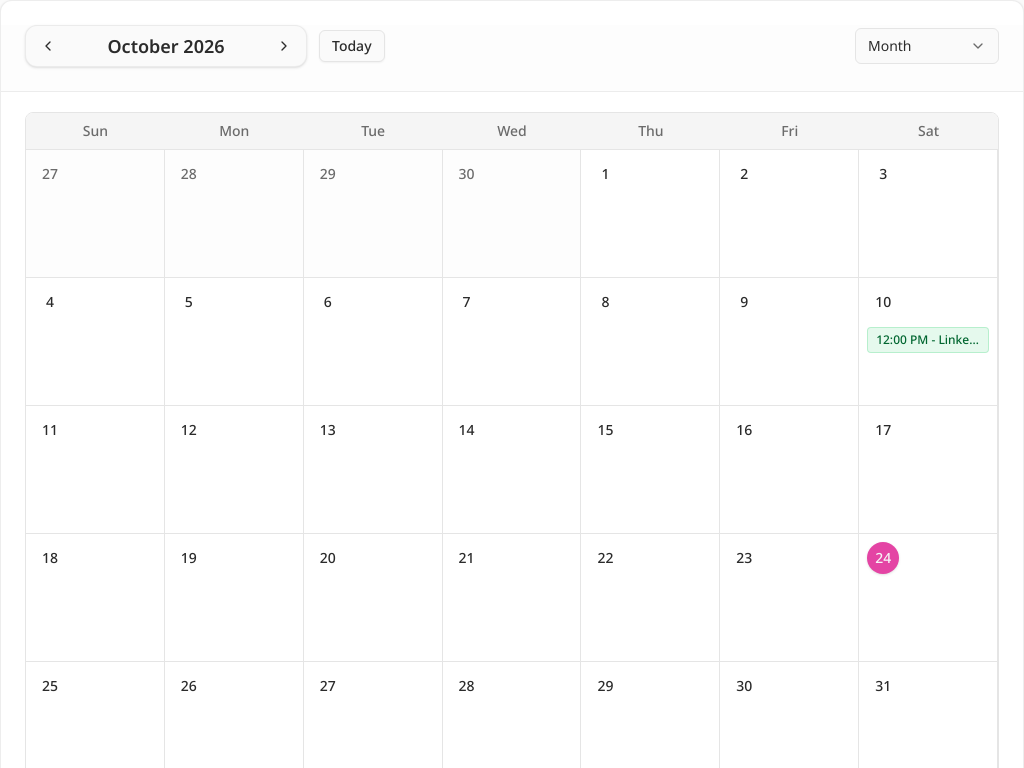
Scenario: UnifiedCalendar drag-to-reschedule › labels linked appointment unlink actions with the linked record names
The image size is (1024, 768).
Click the button "12:00 PM - Linked Appointment" at (928, 340), box [867,327,989,353]
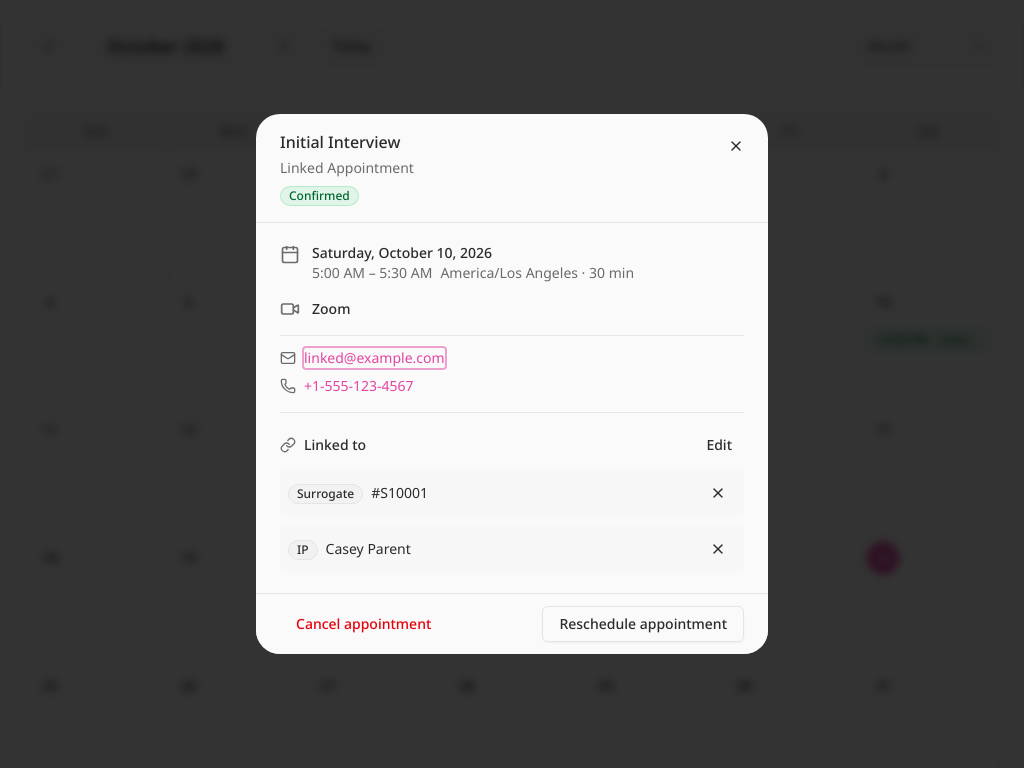
Now the button named "unlink surrogate s10001" is shown, box [700,477,736,509]
Now the button named "unlink intended parent casey parent" is shown, box [700,533,736,565]
